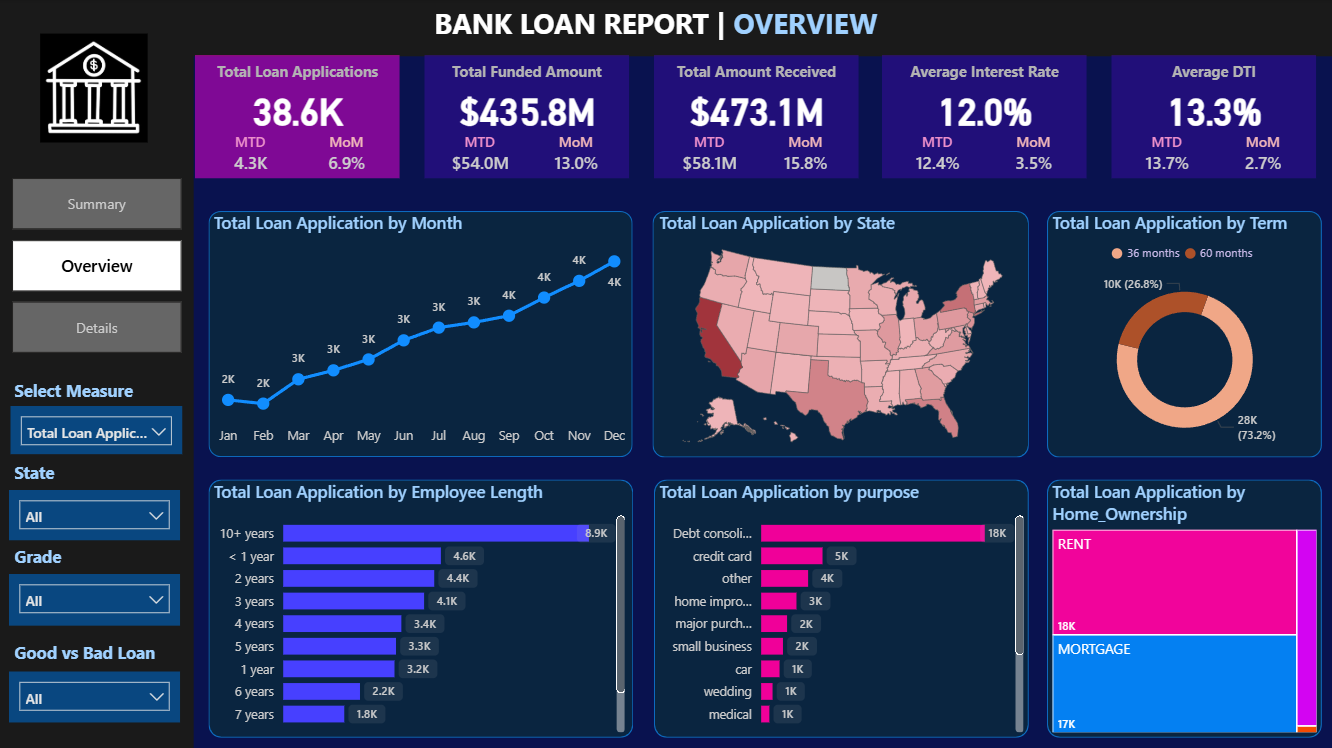

What the dashboard file says about the page in this screenshot:
{"tool":"powerbi","page":{"name":"Overview","canvas":[1280,720],"ordinal":1},"visuals":[{"type":"shape","box":[192.5,54.1,195.6,117.7],"z":0,"group":"g1"},{"type":"shape","box":[411.2,54.1,195.6,117.7],"z":0,"group":"g2"},{"type":"shape","box":[629.9,54.1,195.6,117.7],"z":0,"group":"g6"},{"type":"shape","box":[848.6,54.1,195.6,117.7],"z":0,"group":"g5"},{"type":"shape","box":[1067.3,54.1,195.6,117.7],"z":0,"group":"g4"},{"type":"shape","box":[205,203.3,405,235],"z":0},{"type":"shape","box":[0,0,1280.4,55.7],"z":1000},{"type":"card","fields":{"Values":["bank_loan bank_loan_data.Total Loan Application"]},"box":[192.5,82.7,195.6,44.5],"z":1000,"group":"g1"},{"type":"card","fields":{"Values":["bank_loan_data.Total Funded Amount"]},"box":[411.2,82.7,195.6,44.5],"z":1000,"group":"g2"},{"type":"card","fields":{"Values":["bank_loan_data.Total Amount Received"]},"box":[629.9,82.7,195.6,44.5],"z":1000,"group":"g6"},{"type":"card","fields":{"Values":["bank_loan_data.Average Interest Rate"]},"box":[848.6,82.7,195.6,44.5],"z":1000,"group":"g5"},{"type":"card","fields":{"Values":["bank_loan_data.Average DTI"]},"box":[1067.3,82.7,195.6,44.5],"z":1000,"group":"g4"},{"type":"textbox","box":[192.5,54.1,195.6,35],"z":2000,"group":"g1"},{"type":"textbox","box":[411.2,54.1,195.6,35],"z":2000,"group":"g2"},{"type":"textbox","box":[629.9,54.1,195.6,35],"z":2000,"group":"g6"},{"type":"textbox","box":[848.6,54.1,195.6,35],"z":2000,"group":"g5"},{"type":"textbox","box":[1067.3,54.1,195.6,35],"z":2000,"group":"g4"},{"type":"shape","box":[0,55.1,190.9,664.9],"z":2000},{"type":"textbox","box":[415.1,0,447,54.1],"z":3000},{"type":"card","title":"MTD","fields":{"Values":["bank_loan_data.MTD Loan Application"]},"box":[211.6,127.3,68.4,44.5],"z":3000,"group":"g1"},{"type":"card","title":"MTD","fields":{"Values":["bank_loan_data.MTD Funded Amount"]},"box":[430.3,127.3,68.4,44.5],"z":3000,"group":"g2"},{"type":"card","title":"MTD","fields":{"Values":["bank_loan_data.MTD Amount Received"]},"box":[649,127.3,68.4,44.5],"z":3000,"group":"g6"},{"type":"card","title":"MTD","fields":{"Values":["bank_loan_data.MTD Average Interest Rate"]},"box":[867.7,127.3,68.4,44.5],"z":3000,"group":"g5"},{"type":"card","title":"MTD","fields":{"Values":["bank_loan_data.MTD Average DTI"]},"box":[1086.4,127.3,68.4,44.5],"z":3000,"group":"g4"},{"type":"group","id":"g1","title":"Group 1","box":[192.5,54.1,195.6,117.7],"z":4000},{"type":"card","title":"MoM","fields":{"Values":["bank_loan_data.MoM Loan Application"]},"box":[302.3,127.3,68.4,44.5],"z":4000,"group":"g1"},{"type":"card","title":"MoM","fields":{"Values":["bank_loan_data.MoM Funded Amount"]},"box":[521,127.3,68.4,44.5],"z":4000,"group":"g2"},{"type":"card","title":"MoM","fields":{"Values":["bank_loan_data.MoM Amount Received"]},"box":[739.7,127.3,68.4,44.5],"z":4000,"group":"g6"},{"type":"card","title":"MoM","fields":{"Values":["bank_loan_data.MoM Average Interest Rate"]},"box":[958.4,127.3,68.4,44.5],"z":4000,"group":"g5"},{"type":"card","title":"MoM","fields":{"Values":["bank_loan_data.MoM Average DTI"]},"box":[1177.1,127.3,68.4,44.5],"z":4000,"group":"g4"},{"type":"group","id":"g2","title":"Group 2","box":[411.2,54.1,195.6,117.7],"z":4001,"group":"g3"},{"type":"group","id":"g3","title":"Group 1","box":[411.2,54.1,195.6,117.7],"z":5000},{"type":"group","id":"g4","title":"Group 2","box":[1067.3,54.1,195.6,117.7],"z":6000},{"type":"group","id":"g5","title":"Group 2","box":[848.6,54.1,195.6,117.7],"z":7000},{"type":"group","id":"g6","title":"Group 2","box":[629.9,54.1,195.6,117.7],"z":8000},{"type":"slicer","fields":{"Values":["bank_loan_data.address_state"]},"box":[15,469.3,163,48],"z":9000},{"type":"textbox","box":[15,436.3,67,33],"z":10000},{"type":"slicer","fields":{"Values":["bank_loan_data.grade"]},"box":[15,550.5,163,49],"z":11000},{"type":"textbox","box":[15,517.5,65,33],"z":12000},{"type":"slicer","fields":{"Values":["bank_loan_data.GoodLoan vs Bad Loan"]},"box":[15,643.8,163.3,48.3],"z":13000},{"type":"textbox","box":[14.3,608.1,162.2,36.6],"z":14000},{"type":"lineChart","fields":{"Y":["bank_loan_data.Total Loan Application"],"Category":["Date Table.Month"]},"box":[205.2,203.6,405.6,232.2],"z":15000},{"type":"slicer","fields":{"Values":["Select Measure.Select Measure"]},"box":[16.4,389.7,163.8,46.1],"z":16000},{"type":"textbox","box":[14.8,357.9,135.2,31.8],"z":17000},{"type":"shape","box":[628.3,203.6,359.5,235.4],"z":18000},{"type":"shape","box":[205.2,459.7,405.6,246.5],"z":19000},{"type":"shapeMap","fields":{"Value":["bank_loan_data.Total Loan Application"],"Category":["bank_loan_data.address_state"]},"box":[629.9,203.6,359.5,235.4],"z":20000},{"type":"shape","box":[1005.3,203.6,262.5,235.4],"z":21000},{"type":"donutChart","fields":{"Y":["bank_loan_data.Total Loan Application"],"Category":["bank_loan_data.term"]},"box":[1005.3,203.6,262.5,235.4],"z":22000},{"type":"shape","box":[629.9,459.7,357.9,246.5],"z":23000},{"type":"barChart","fields":{"Y":["bank_loan_data.Total Loan Application"],"Category":["bank_loan_data.emp_length"]},"box":[205.2,459.7,402.4,246.5],"z":24000},{"type":"shape","box":[1005.3,459.7,262.5,246.5],"z":25000},{"type":"barChart","fields":{"Y":["bank_loan_data.Total Loan Application"],"Category":["bank_loan_data.purpose"]},"box":[629.9,459.7,357.9,246.5],"z":26000},{"type":"treemap","fields":{"Values":["bank_loan_data.Total Loan Application"],"Group":["bank_loan_data.home_ownership"]},"box":[1005.3,459.7,262.5,246.5],"z":27000},{"type":"pageNavigator","box":[17.5,171.8,162.2,167],"z":28000},{"type":"image","box":[30.2,28.6,130.4,114.5],"z":28001}]}

Visuals, with their boxes in screenshot pixels (x1, y1, x2, y2), scaled from the page's 1280x720 canvas onto the 1332x748 screenshot:
shape: l=200, t=56, r=404, b=178
shape: l=428, t=56, r=631, b=178
shape: l=655, t=56, r=859, b=178
shape: l=883, t=56, r=1087, b=178
shape: l=1111, t=56, r=1314, b=178
shape: l=213, t=211, r=635, b=455
shape: l=0, t=0, r=1331, b=58
card - bank_loan bank_loan_data.Total Loan Application: l=200, t=86, r=404, b=132
card - bank_loan_data.Total Funded Amount: l=428, t=86, r=631, b=132
card - bank_loan_data.Total Amount Received: l=655, t=86, r=859, b=132
card - bank_loan_data.Average Interest Rate: l=883, t=86, r=1087, b=132
card - bank_loan_data.Average DTI: l=1111, t=86, r=1314, b=132
textbox: l=200, t=56, r=404, b=93
textbox: l=428, t=56, r=631, b=93
textbox: l=655, t=56, r=859, b=93
textbox: l=883, t=56, r=1087, b=93
textbox: l=1111, t=56, r=1314, b=93
shape: l=0, t=57, r=199, b=747
textbox: l=432, t=0, r=897, b=56
"MTD" card: l=220, t=132, r=291, b=178
"MTD" card: l=448, t=132, r=519, b=178
"MTD" card: l=675, t=132, r=747, b=178
"MTD" card: l=903, t=132, r=974, b=178
"MTD" card: l=1131, t=132, r=1202, b=178
"Group 1" group: l=200, t=56, r=404, b=178
"MoM" card: l=315, t=132, r=386, b=178
"MoM" card: l=542, t=132, r=613, b=178
"MoM" card: l=770, t=132, r=841, b=178
"MoM" card: l=997, t=132, r=1069, b=178
"MoM" card: l=1225, t=132, r=1296, b=178
"Group 2" group: l=428, t=56, r=631, b=178
"Group 1" group: l=428, t=56, r=631, b=178
"Group 2" group: l=1111, t=56, r=1314, b=178
"Group 2" group: l=883, t=56, r=1087, b=178
"Group 2" group: l=655, t=56, r=859, b=178
slicer - bank_loan_data.address_state: l=16, t=488, r=185, b=537
textbox: l=16, t=453, r=85, b=488
slicer - bank_loan_data.grade: l=16, t=572, r=185, b=623
textbox: l=16, t=538, r=83, b=572
slicer - bank_loan_data.GoodLoan vs Bad Loan: l=16, t=669, r=186, b=719
textbox: l=15, t=632, r=184, b=670
lineChart - bank_loan_data.Total Loan Application x Date Table.Month: l=214, t=212, r=636, b=453
slicer - Select Measure.Select Measure: l=17, t=405, r=188, b=453
textbox: l=15, t=372, r=156, b=405
shape: l=654, t=212, r=1028, b=456
shape: l=214, t=478, r=636, b=734
shapeMap - bank_loan_data.Total Loan Application x bank_loan_data.address_state: l=655, t=212, r=1030, b=456
shape: l=1046, t=212, r=1319, b=456
donutChart - bank_loan_data.Total Loan Application x bank_loan_data.term: l=1046, t=212, r=1319, b=456
shape: l=655, t=478, r=1028, b=734
barChart - bank_loan_data.Total Loan Application x bank_loan_data.emp_length: l=214, t=478, r=632, b=734
shape: l=1046, t=478, r=1319, b=734
barChart - bank_loan_data.Total Loan Application x bank_loan_data.purpose: l=655, t=478, r=1028, b=734
treemap - bank_loan_data.Total Loan Application x bank_loan_data.home_ownership: l=1046, t=478, r=1319, b=734
pageNavigator: l=18, t=178, r=187, b=352
image: l=31, t=30, r=167, b=149
